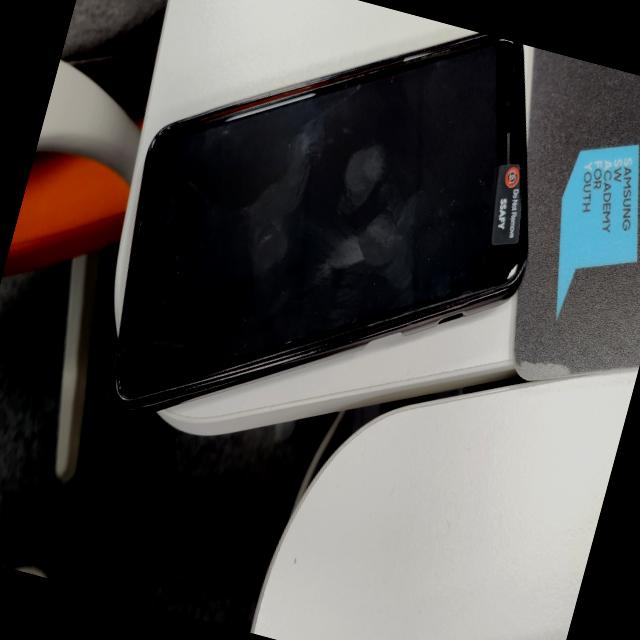phone: (78, 0, 580, 497)
sticker: (476, 153, 540, 254)
